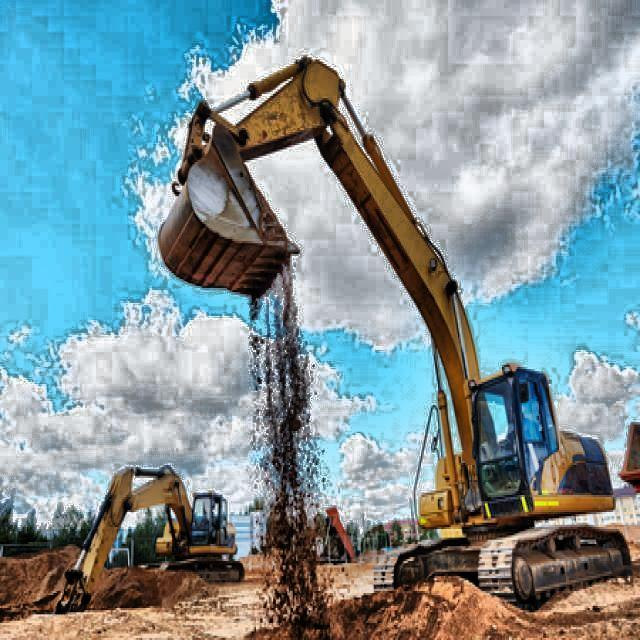excavator: (158, 57, 636, 614), (52, 464, 245, 616)
